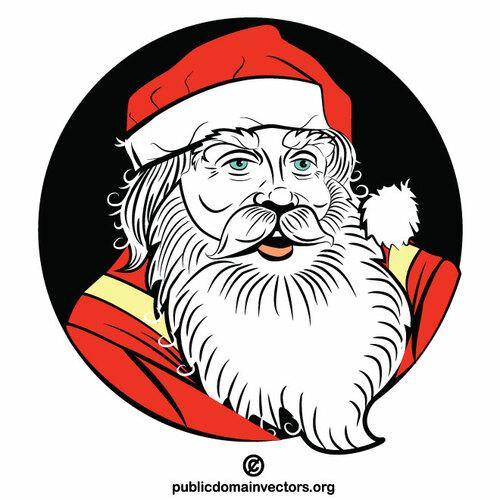Santa: (60, 24, 462, 451)
